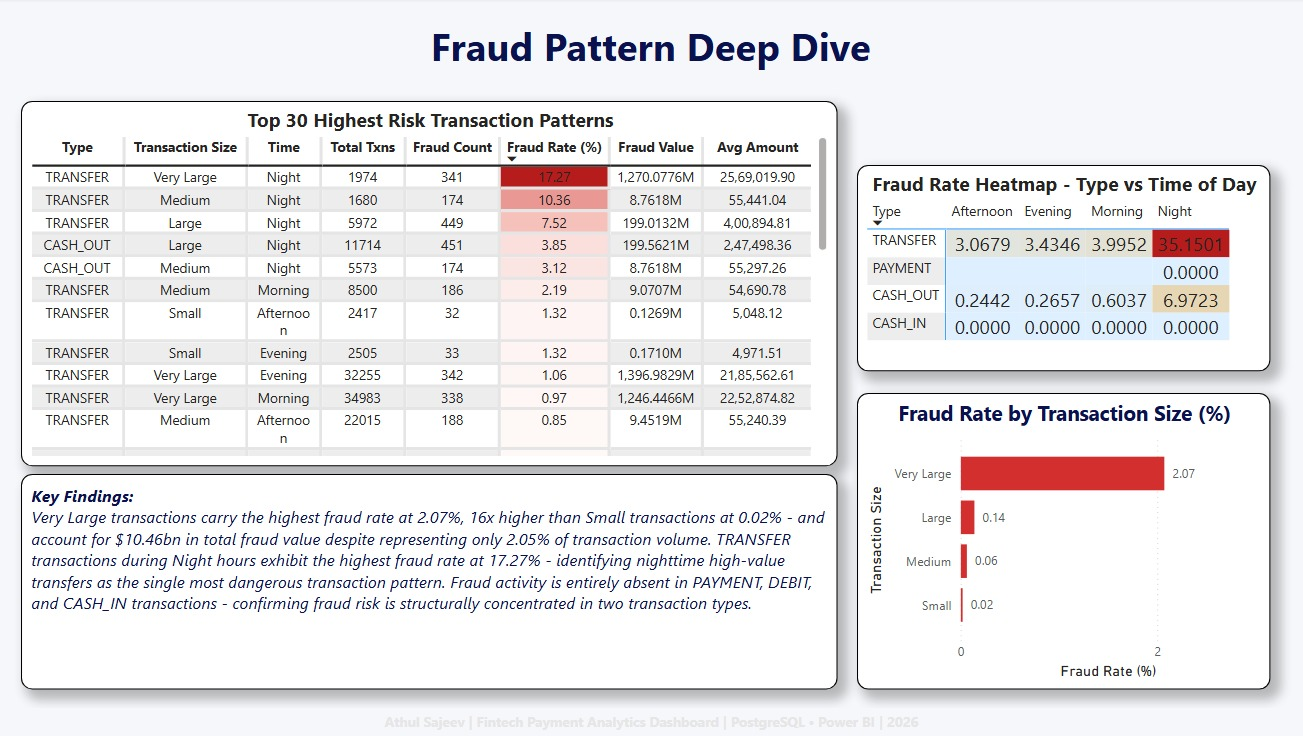

The dashboard page shown, as its layout file describes it:
{"tool":"powerbi","page":{"name":"Fraud Analysis","canvas":[1280,720],"ordinal":1},"visuals":[{"type":"textbox","box":[291.8,16.5,695.4,70],"z":0},{"type":"clusteredBarChart","title":"Fraud Rate by Transaction Size (%)","fields":{"Category":["query5_fraud_by_size.transaction_size"],"Y":["Sum(query5_fraud_by_size.fraud_rate_pct)"]},"box":[840.3,385.1,402.6,288.6],"z":1000},{"type":"tableEx","title":"Top 30 Highest Risk Transaction Patterns","fields":{"Values":["query6_high_risk_patterns.type","query6_high_risk_patterns.transaction_size","query6_high_risk_patterns.time_of_day","Sum(query6_high_risk_patterns.total_transactions)","Sum(query6_high_risk_patterns.fraud_count)","Sum(query6_high_risk_patterns.fraud_rate_pct)","Sum(query6_high_risk_patterns.fraud_value)","Sum(query6_high_risk_patterns.avg_amount)"]},"box":[25.3,100.4,796.5,355.8],"z":2000},{"type":"pivotTable","title":"Fraud Rate Heatmap - Type vs Time of Day","fields":{"Rows":["query6_high_risk_patterns.type"],"Columns":["query6_high_risk_patterns.time_of_day"],"Values":["Sum(query6_high_risk_patterns.fraud_rate_pct)"]},"box":[840.3,162.8,402.6,200.8],"z":3000},{"type":"textbox","box":[25.3,464,796.5,209.6],"z":4000},{"type":"textbox","box":[0,692.2,1280,28.3],"z":4001}]}

Visuals, with their boxes in screenshot pixels (x1, y1, x2, y2), scaled from the page's 1280x720 canvas onto the 1303x736 screenshot:
textbox: 297,17,1005,88
"Fraud Rate by Transaction Size (%)" clusteredBarChart: 855,394,1265,689
"Top 30 Highest Risk Transaction Patterns" tableEx: 26,103,837,466
"Fraud Rate Heatmap - Type vs Time of Day" pivotTable: 855,166,1265,372
textbox: 26,474,837,689
textbox: 0,708,1302,735
